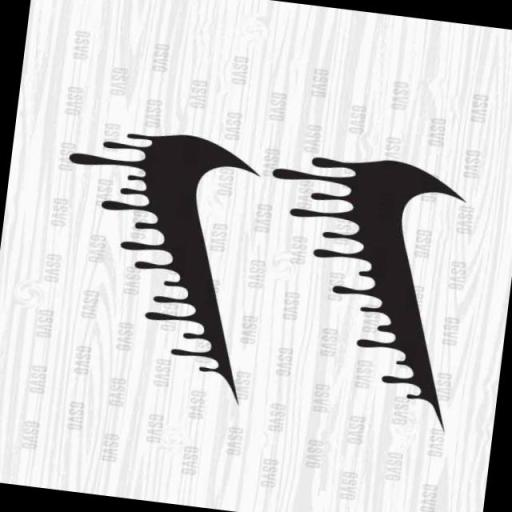Nike: (114, 126, 275, 404)
